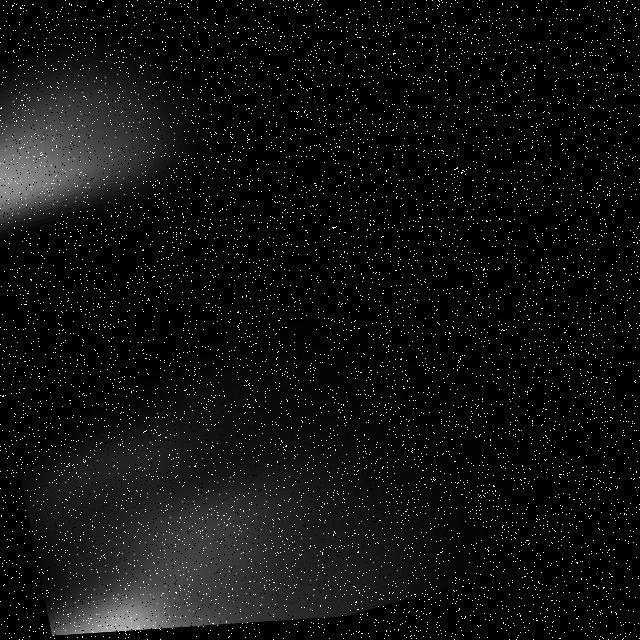person: (21, 375, 462, 640), (1, 1, 314, 284)
